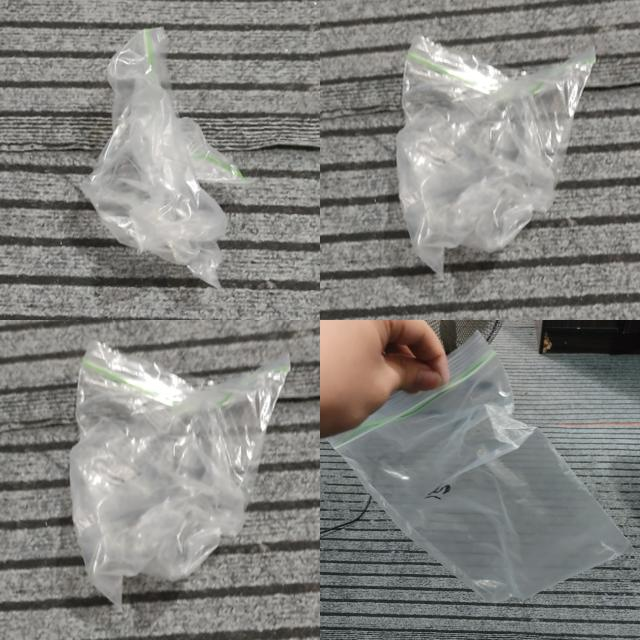Single-layer Plastic: (330, 334, 631, 602), (70, 341, 290, 605), (396, 36, 595, 275), (81, 28, 245, 288)
